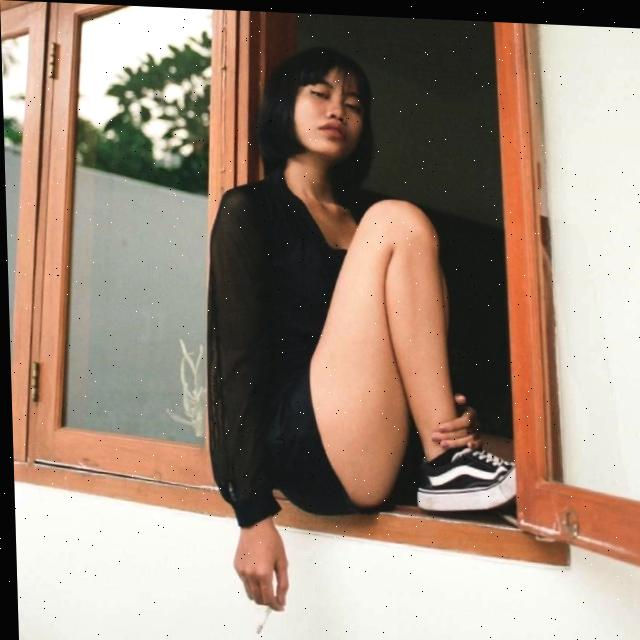cigarette: (250, 604, 268, 633)
